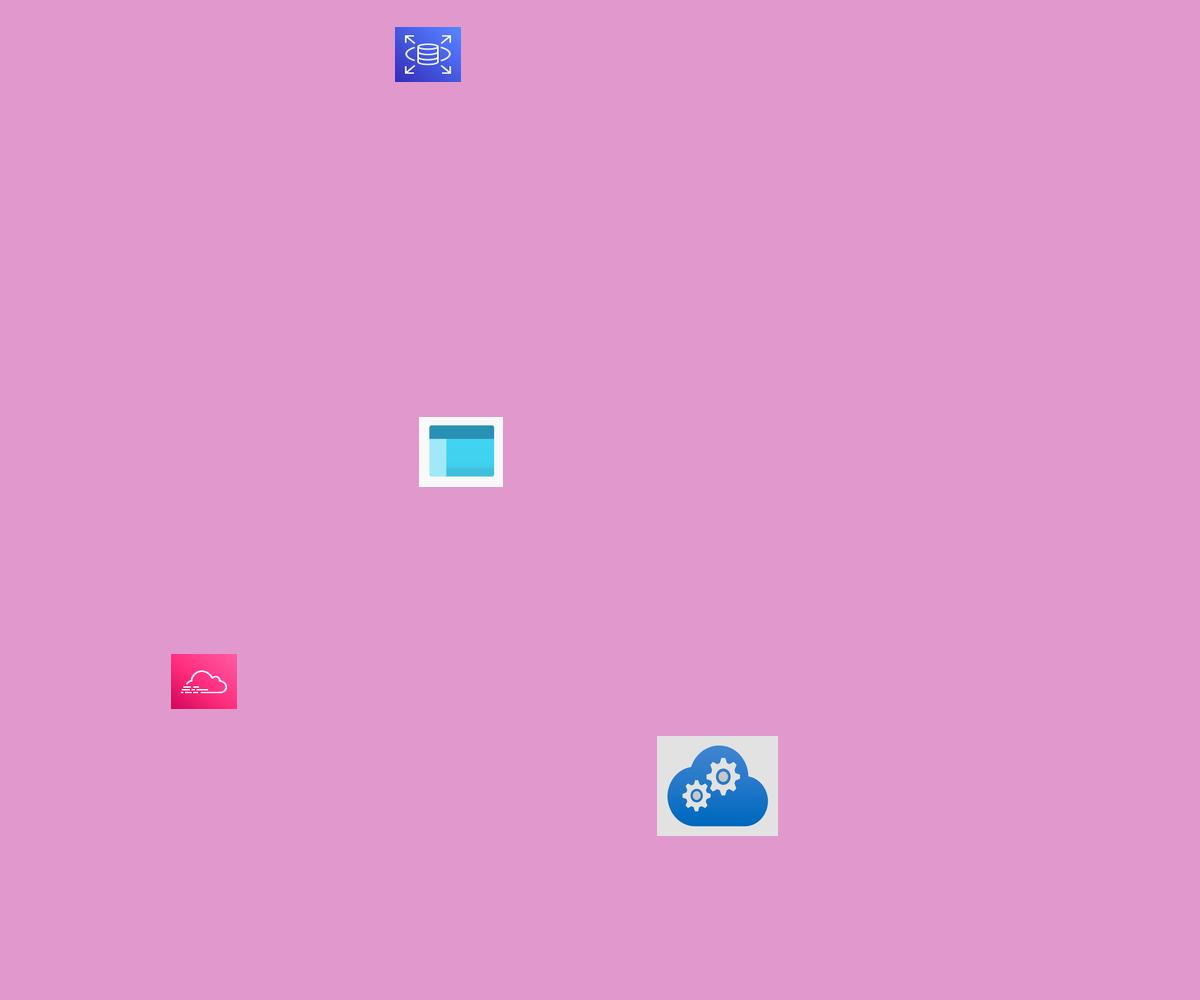AWS-CloudTrail: (171, 654, 237, 709)
AWS-RDS: (395, 27, 461, 82)
Azure_cloud_services: (657, 736, 778, 836)
Azure_management-portal: (419, 417, 503, 487)
